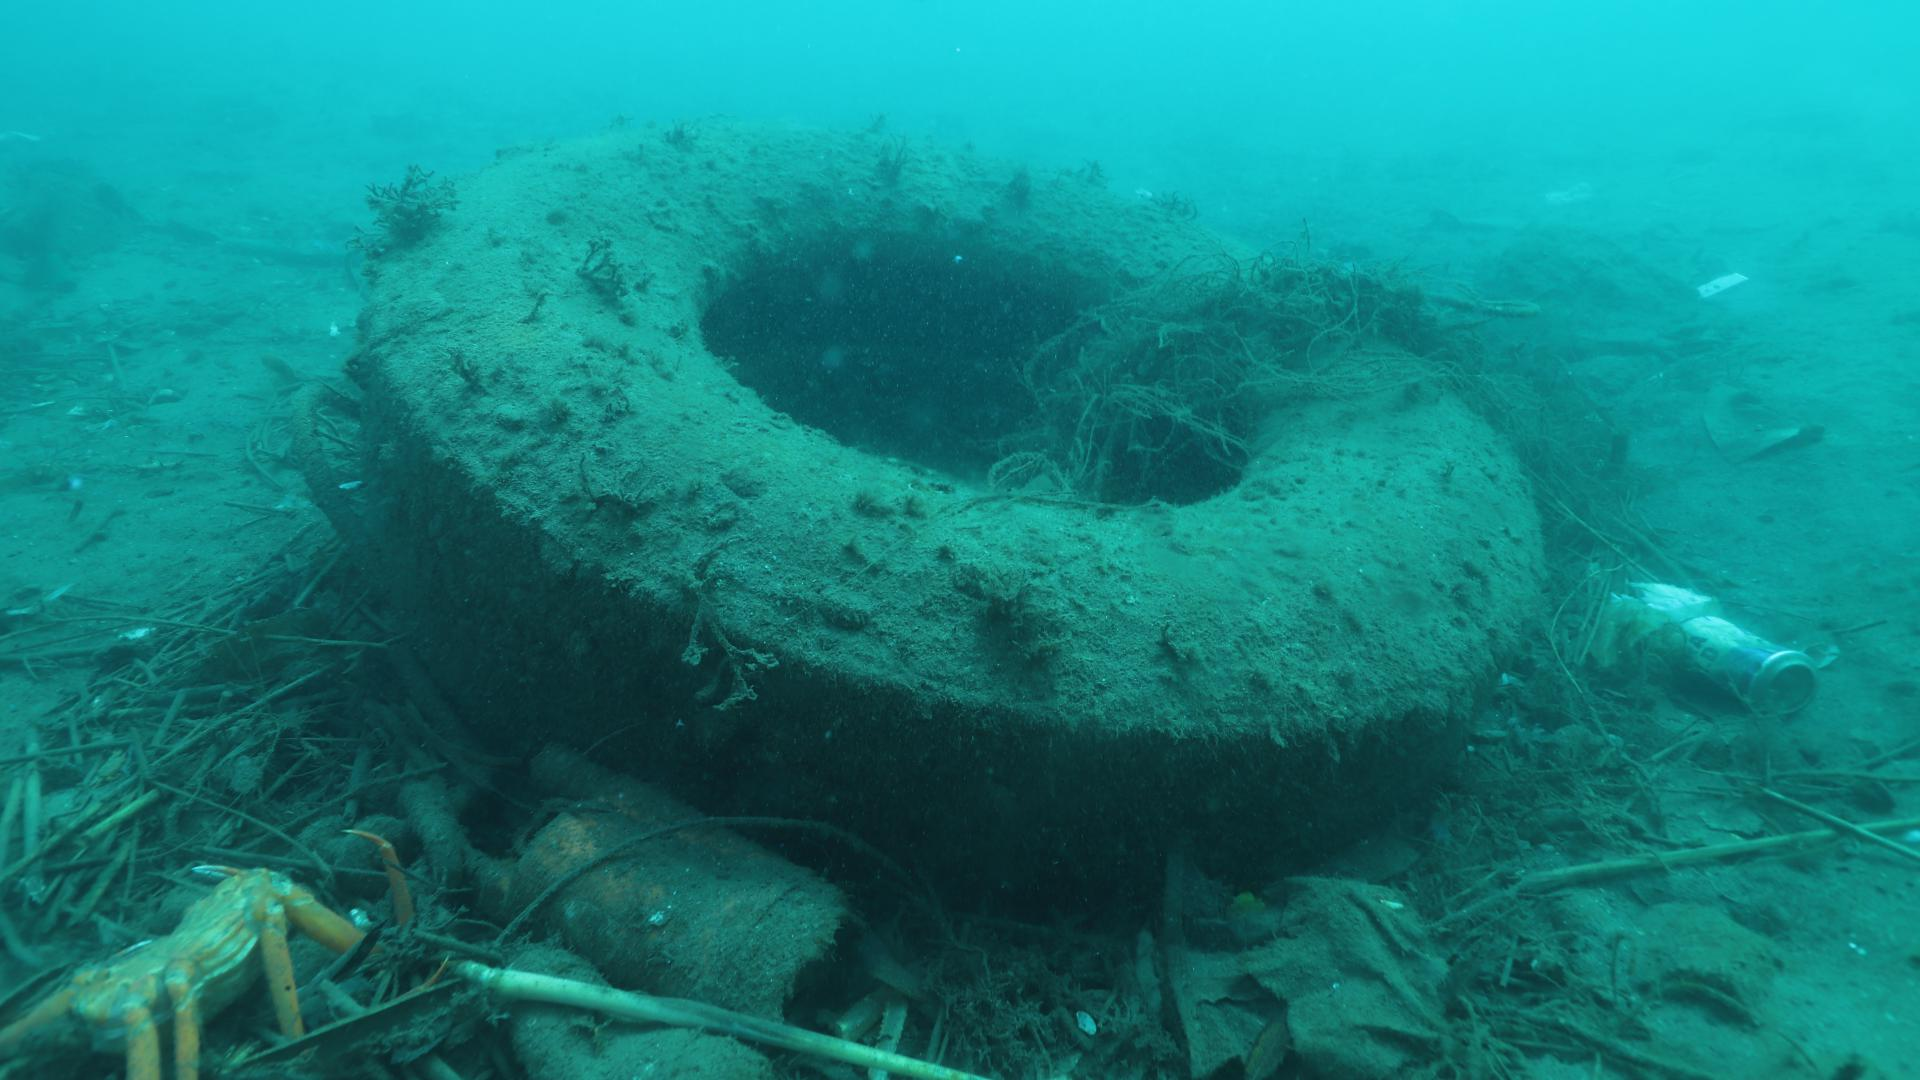tire: (357, 123, 1545, 918)
